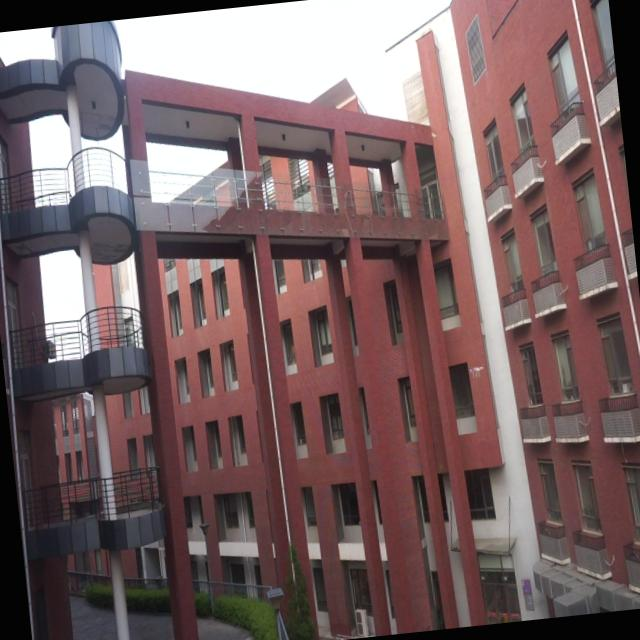drone: (467, 362, 488, 384)
